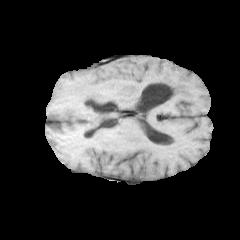glioma: (50, 71, 194, 127)
